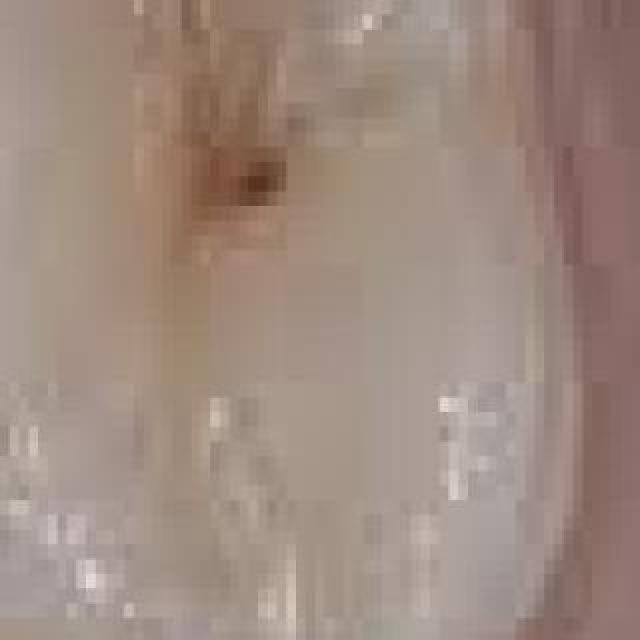cavities: (0, 0, 502, 438)
